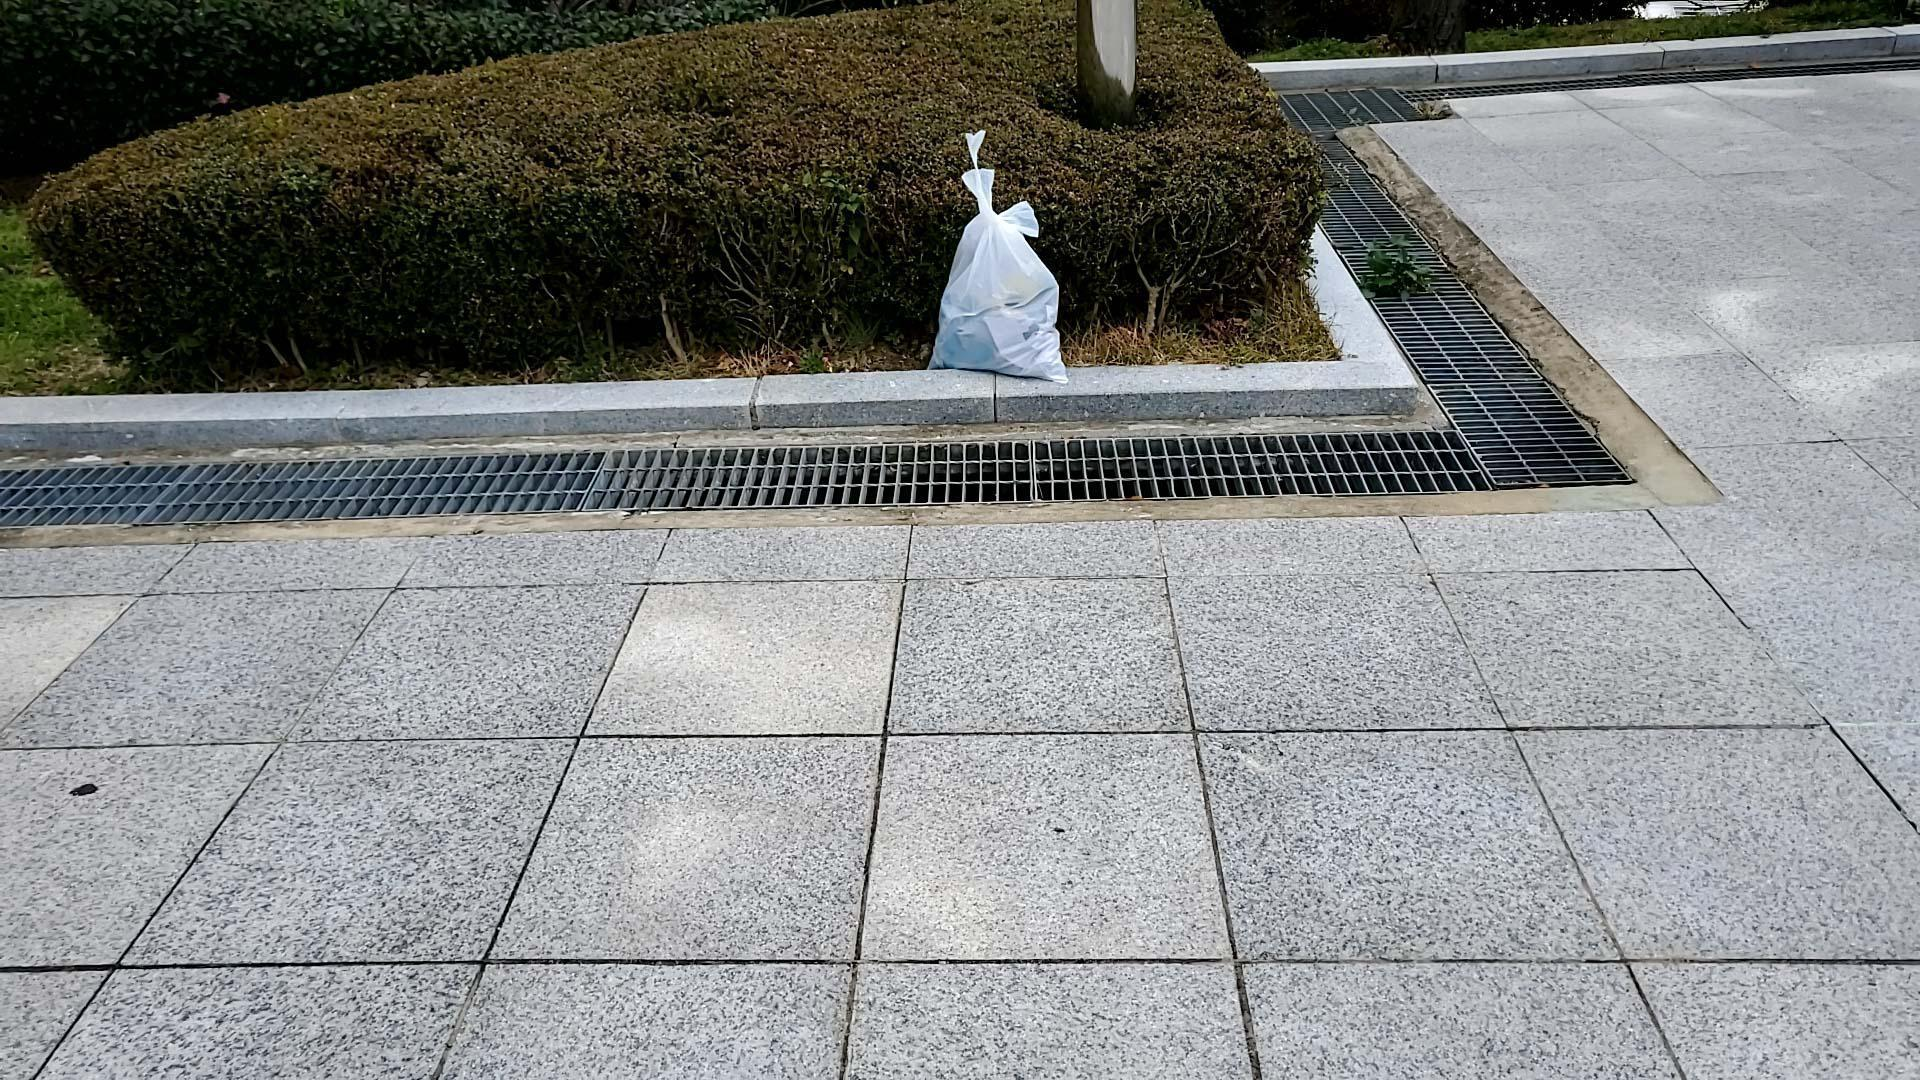white_bag: (897, 111, 1089, 400)
